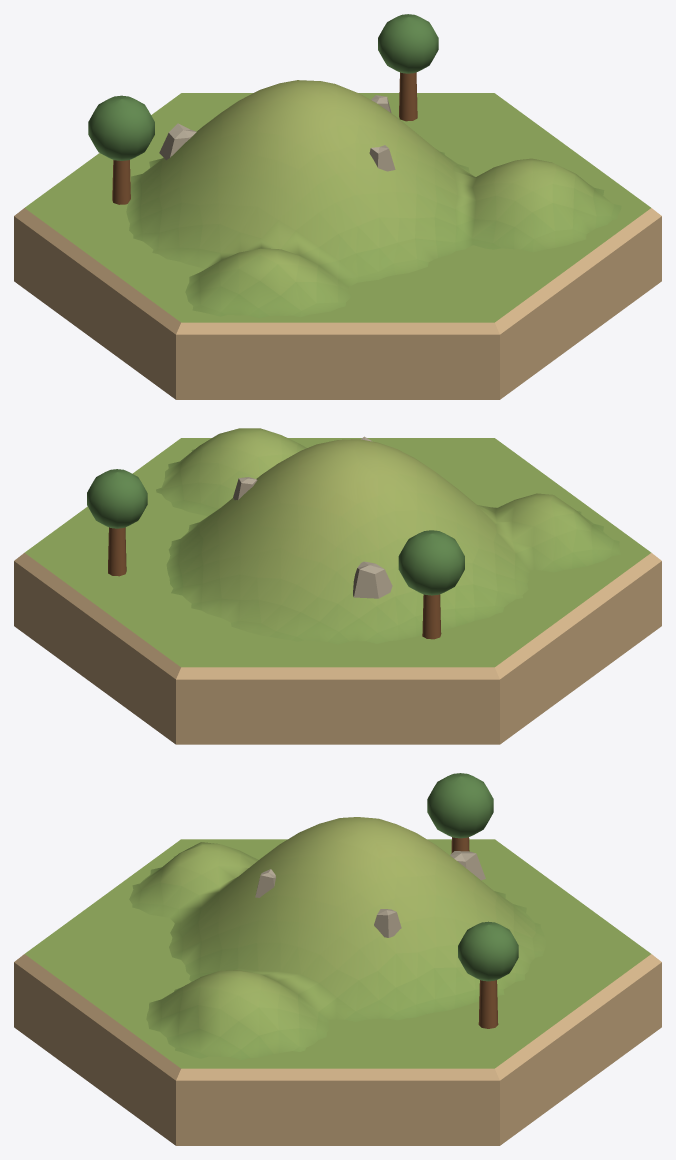
File: tile_hills_2.fbx
3 renders of one model, top to bottom at view 1: azimuth 30°, elevation 25°; view 2: azimuth 150°, elevation 25°; view 3: azimuth 270°, elevation 25°, orthographic.
Parts seen in each view (by area): view 1: tile_hills_2; view 2: tile_hills_2; view 3: tile_hills_2.
Part boxes in pixels (<box>): tile_hills_2: <box>14,14,661,399</box>; tile_hills_2: <box>14,428,661,744</box>; tile_hills_2: <box>14,773,661,1145</box>.
Bounding box in the file's own units: 1.73 × 0.6492 × 2.
